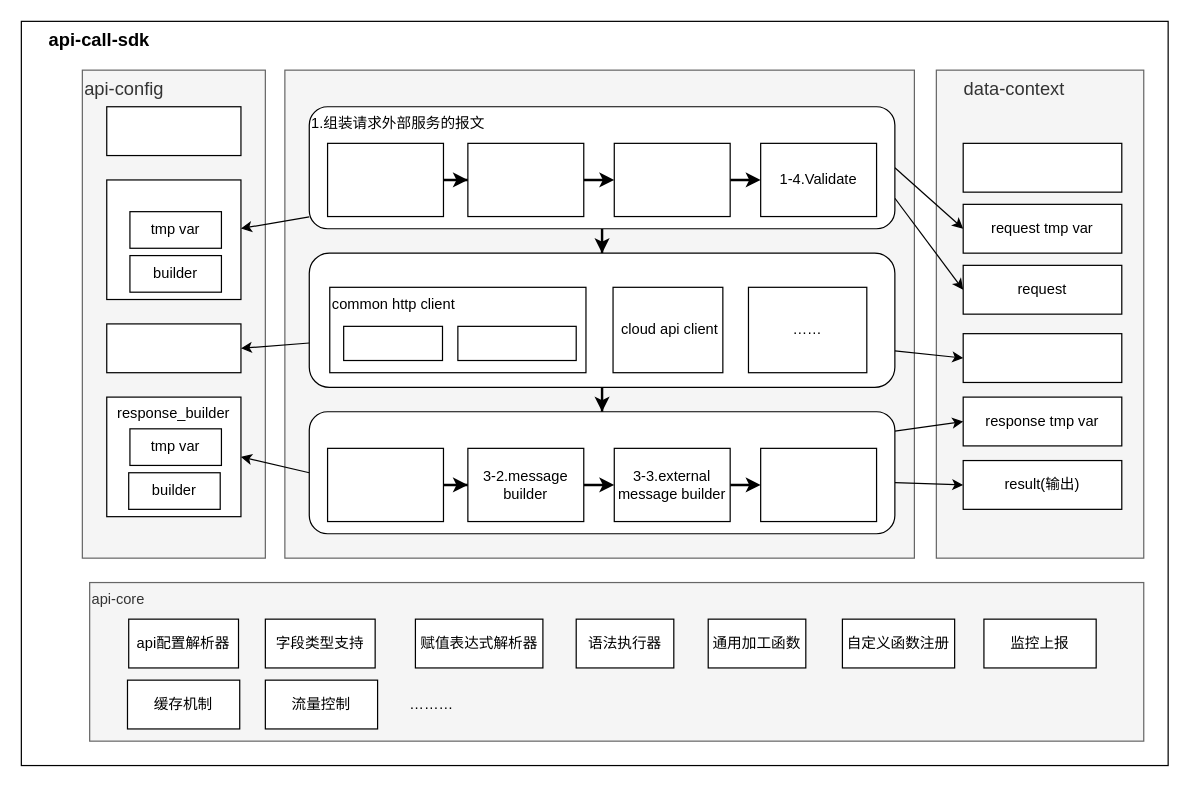
Image size: 1190x787. Some labels were removed from this diagram. The shapes that lost their labels are listed below. From the top down, each one's box as (x1, y1, x2, y2) in pixels, then its label:
(106, 106, 241, 156): api_info
(326, 142, 443, 217): 1-1.data preset
(467, 142, 584, 217): 1-2.message builder
(613, 142, 730, 217): 1-3.external message builder
(962, 142, 1122, 192): param(输入)
(106, 179, 241, 300): request_builder
(284, 69, 914, 558): api-flow
(308, 252, 895, 387): 2.调用外部服务方
(106, 323, 241, 373): api client config
(342, 325, 442, 361): common http
(457, 325, 576, 361): Customized Auth
(962, 332, 1122, 382): response
(326, 447, 443, 522): 3-1.data preset
(308, 411, 895, 534): 3.组装返回调用方的的报文
(759, 447, 877, 522): 3-4.Validate
